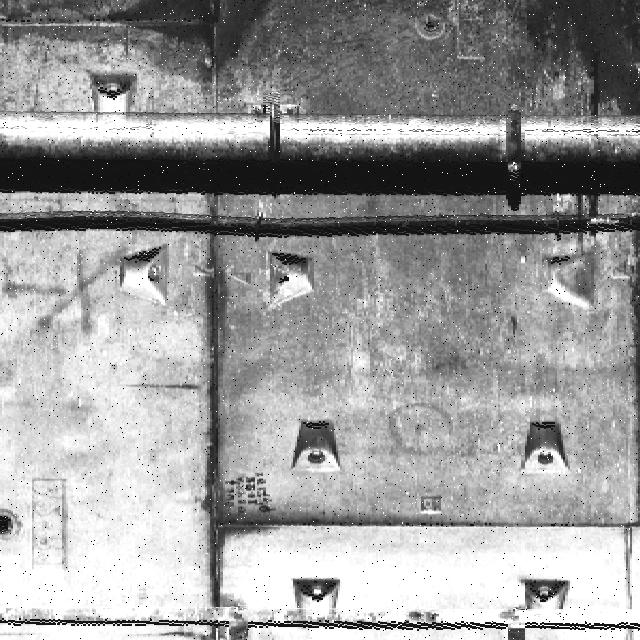leakage: (200, 236, 278, 622), (0, 1, 280, 84), (510, 1, 639, 128)
